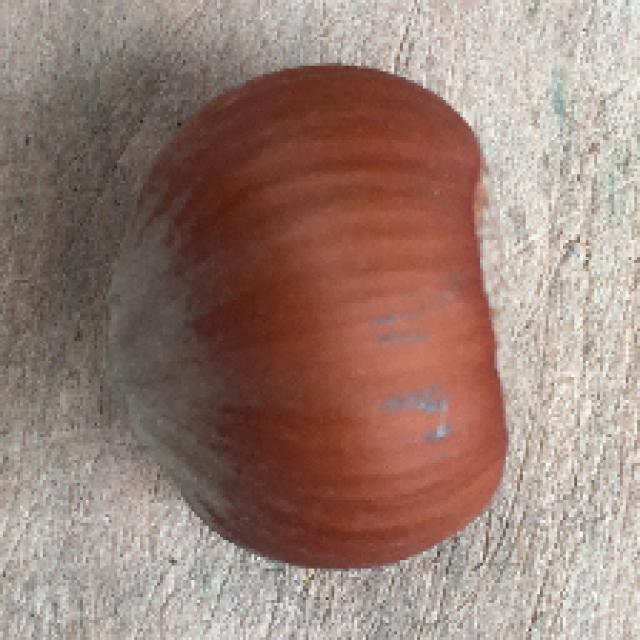qualityHazelnut: (92, 62, 516, 577)
